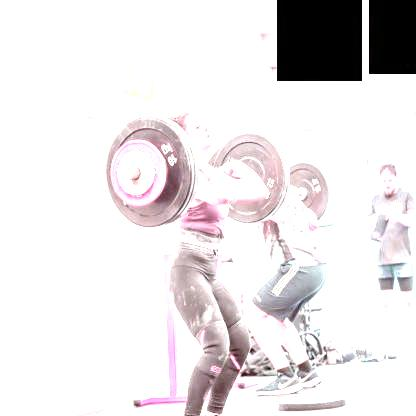barbell: (106, 117, 193, 229)
